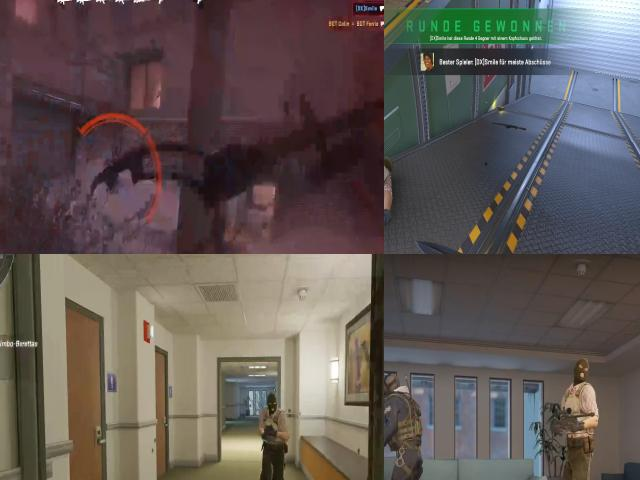Bomb: (496, 103, 506, 113)
CT: (384, 366, 426, 449)
CT-Head: (384, 369, 407, 404)
T: (559, 371, 598, 456), (254, 387, 294, 455)
T-Head: (568, 355, 592, 390), (264, 388, 283, 416)
